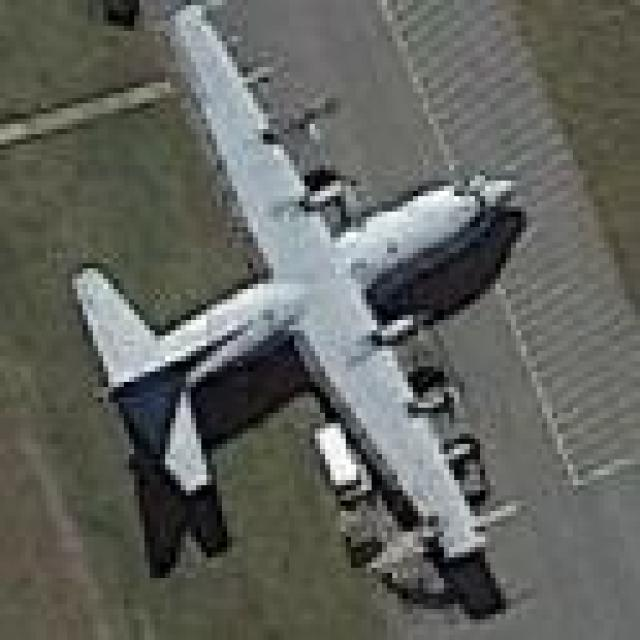C-130_TopDown: (65, 0, 539, 623)
